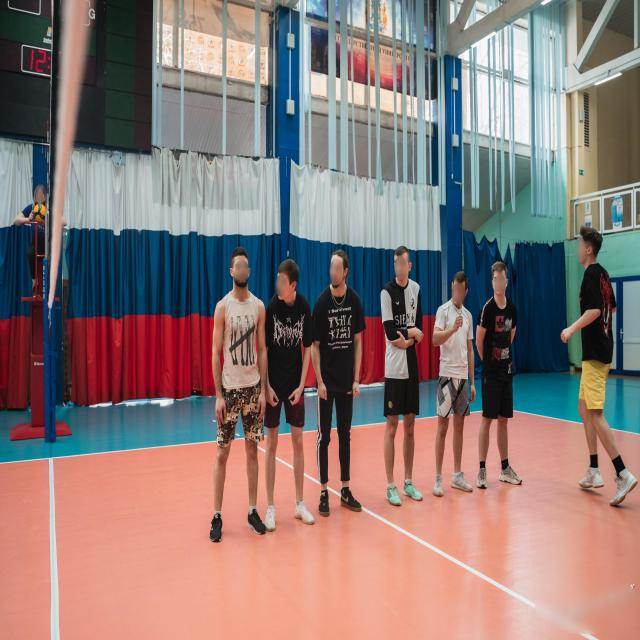Person: (567, 225, 638, 517), (206, 240, 267, 562), (260, 254, 319, 540), (312, 244, 368, 526), (378, 245, 428, 512), (474, 258, 522, 502), (434, 270, 476, 509)
